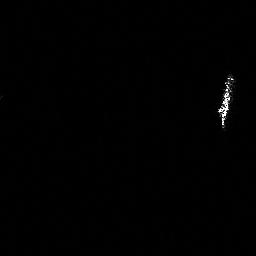ship: (213, 71, 236, 130)
